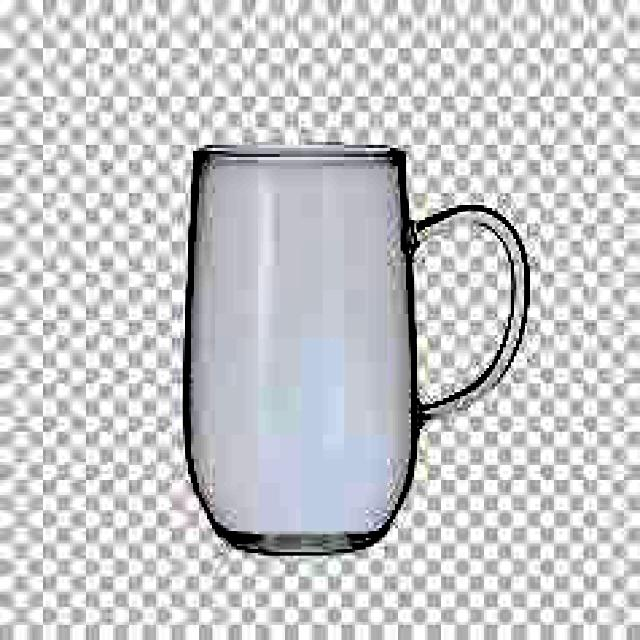Glass: (179, 138, 425, 561)
